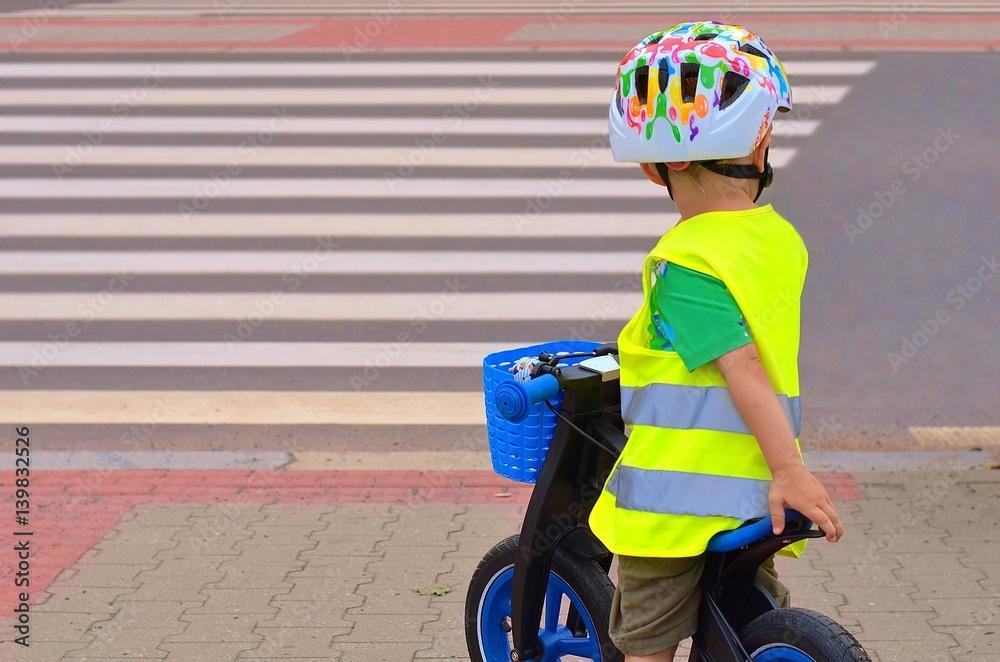Vest: (609, 211, 804, 548)
